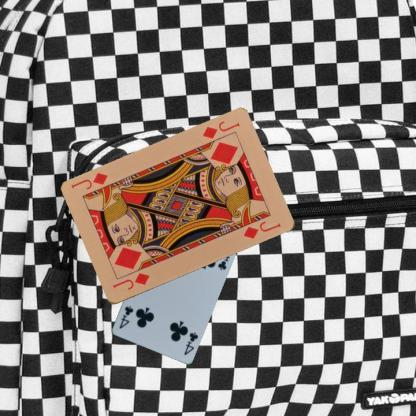4c: (182, 329, 199, 356)
Jd: (199, 118, 241, 141), (109, 270, 151, 292)
